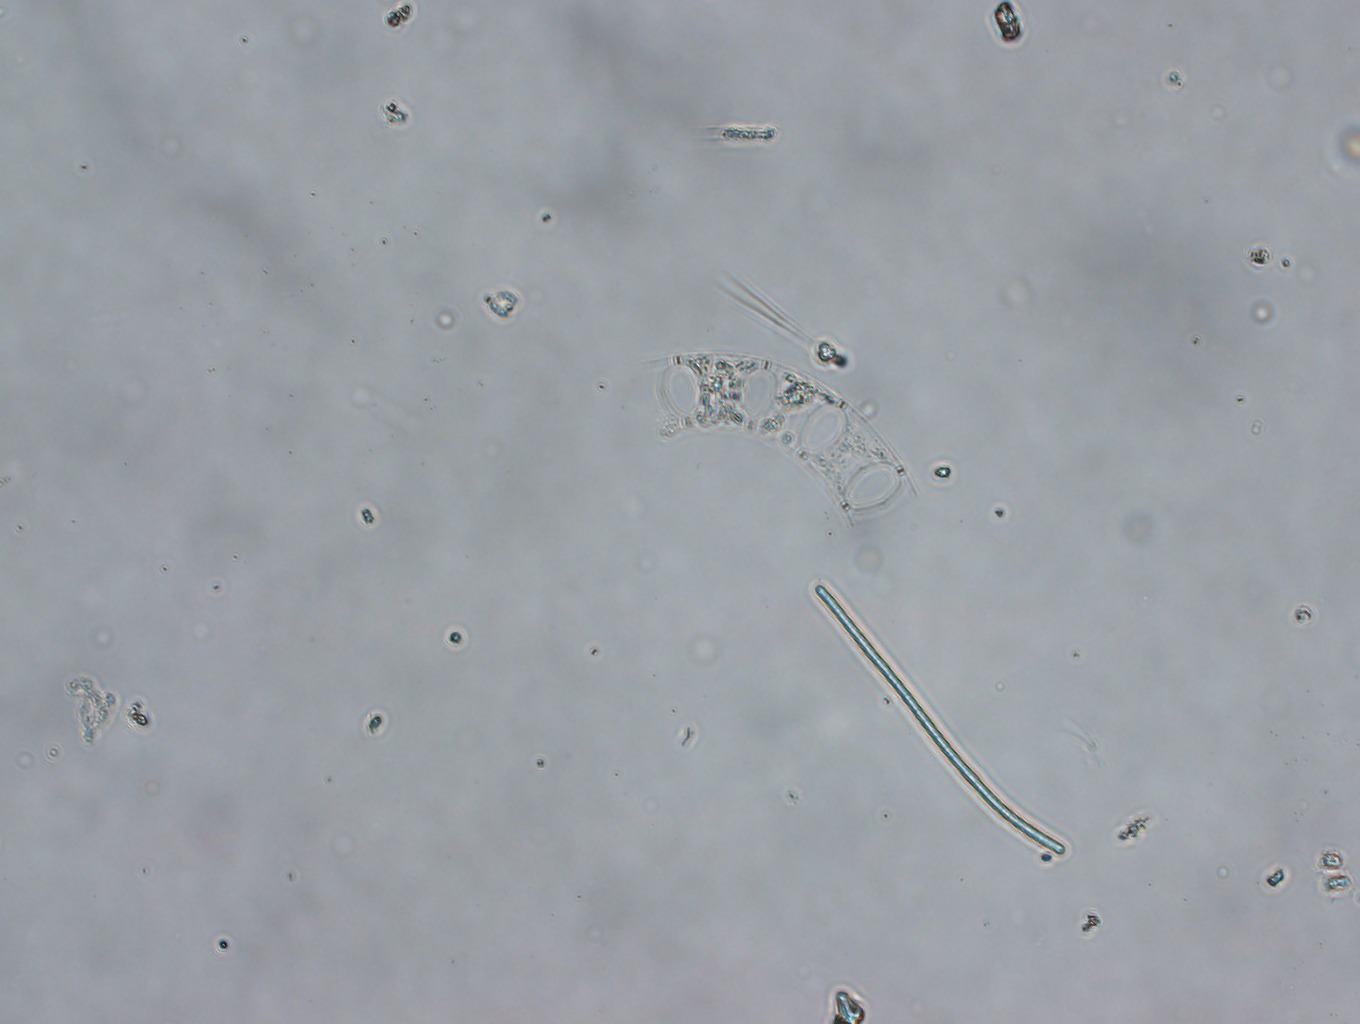eucampia: (635, 353, 918, 528)
